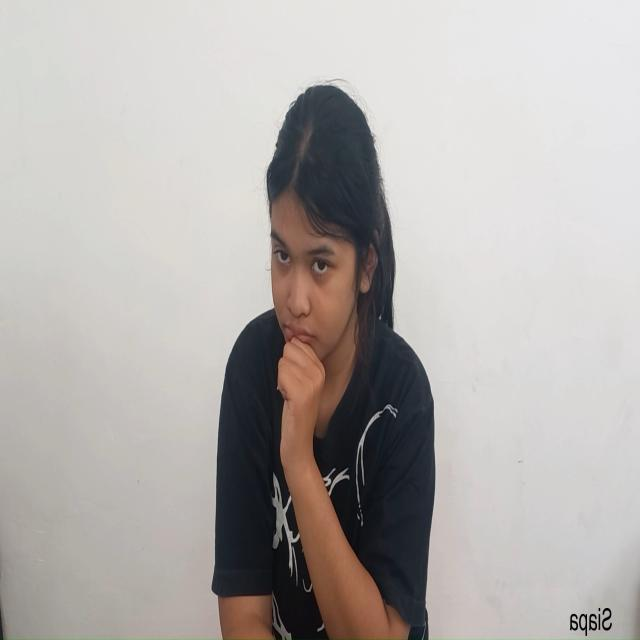Siapa -BISINDO-: (264, 52, 398, 397)
